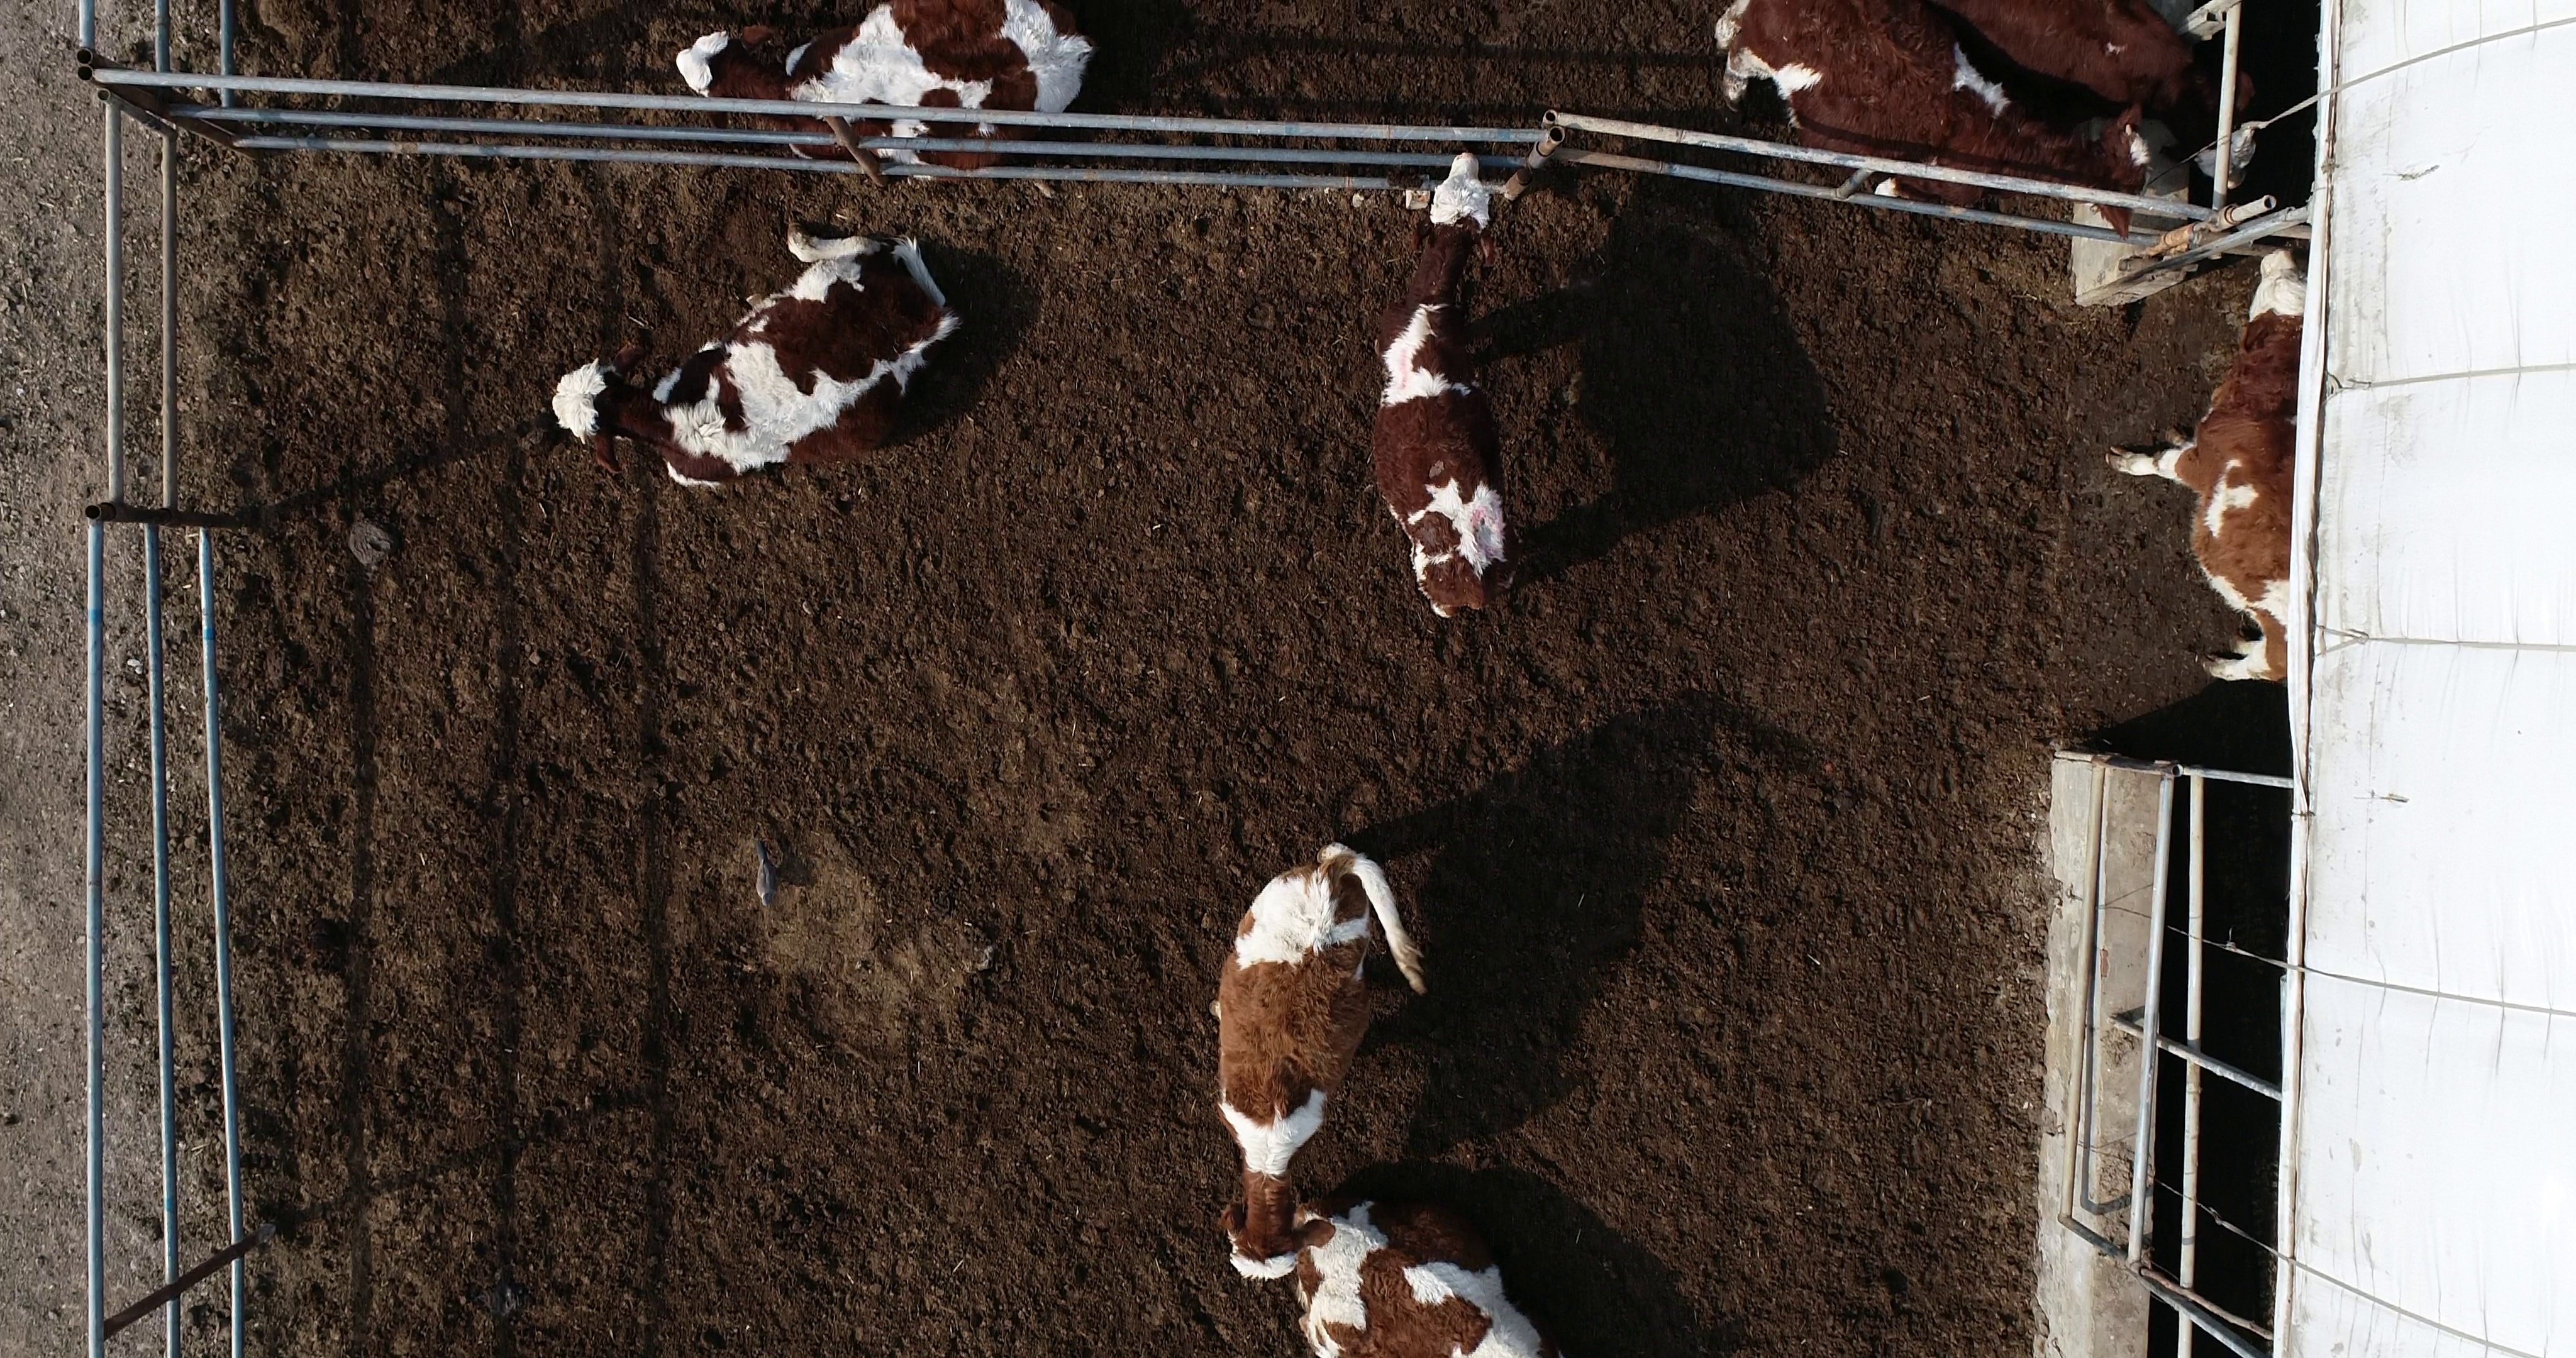cattle: (543, 216, 971, 492), (1201, 837, 1436, 1290), (1360, 147, 1528, 627)
